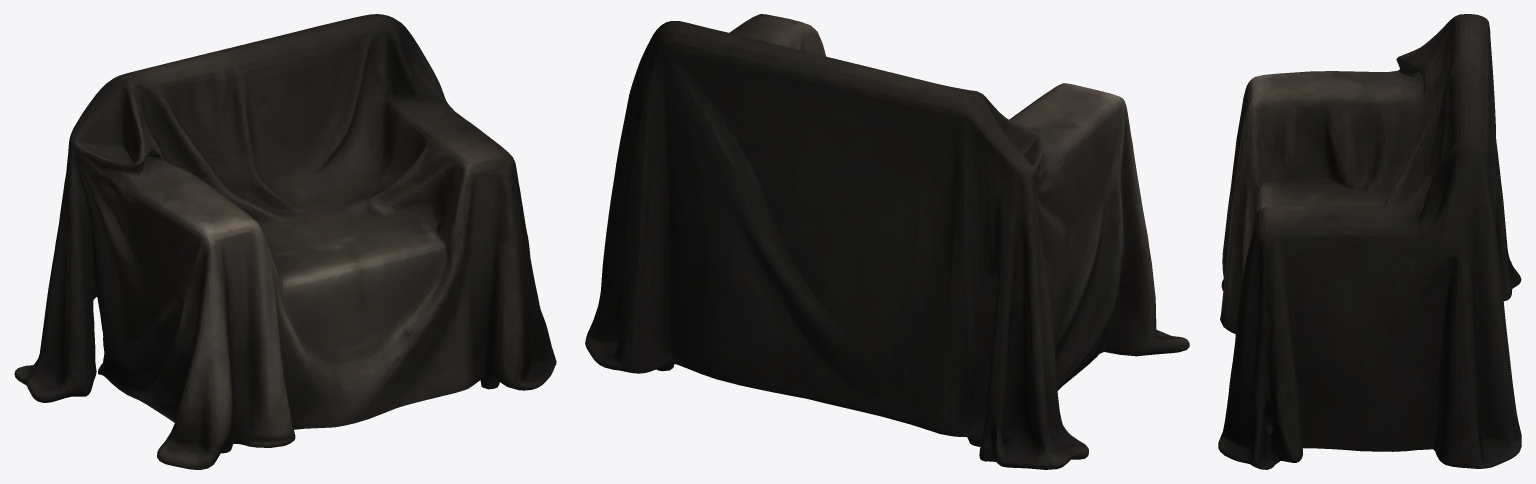
Rendered from covered_chair.glb.
The picture shows the model from 3 angles, left to right: view 1: azimuth 30°, elevation 25°; view 2: azimuth 150°, elevation 25°; view 3: azimuth 270°, elevation 25°; orthographic projection. The views are drawn at different scales.
Visible parts, largest first — view 1: geometry_0; view 2: geometry_0; view 3: geometry_0.
Part boxes in pixels (box(x1,y1,x2,y2)): geometry_0: box(14, 14, 556, 469); geometry_0: box(585, 14, 1189, 469); geometry_0: box(1218, 14, 1521, 469).
Bounding box in the file's own units: 0.998 × 0.6783 × 0.6089.
Materials: 1 (1 with a texture image).
